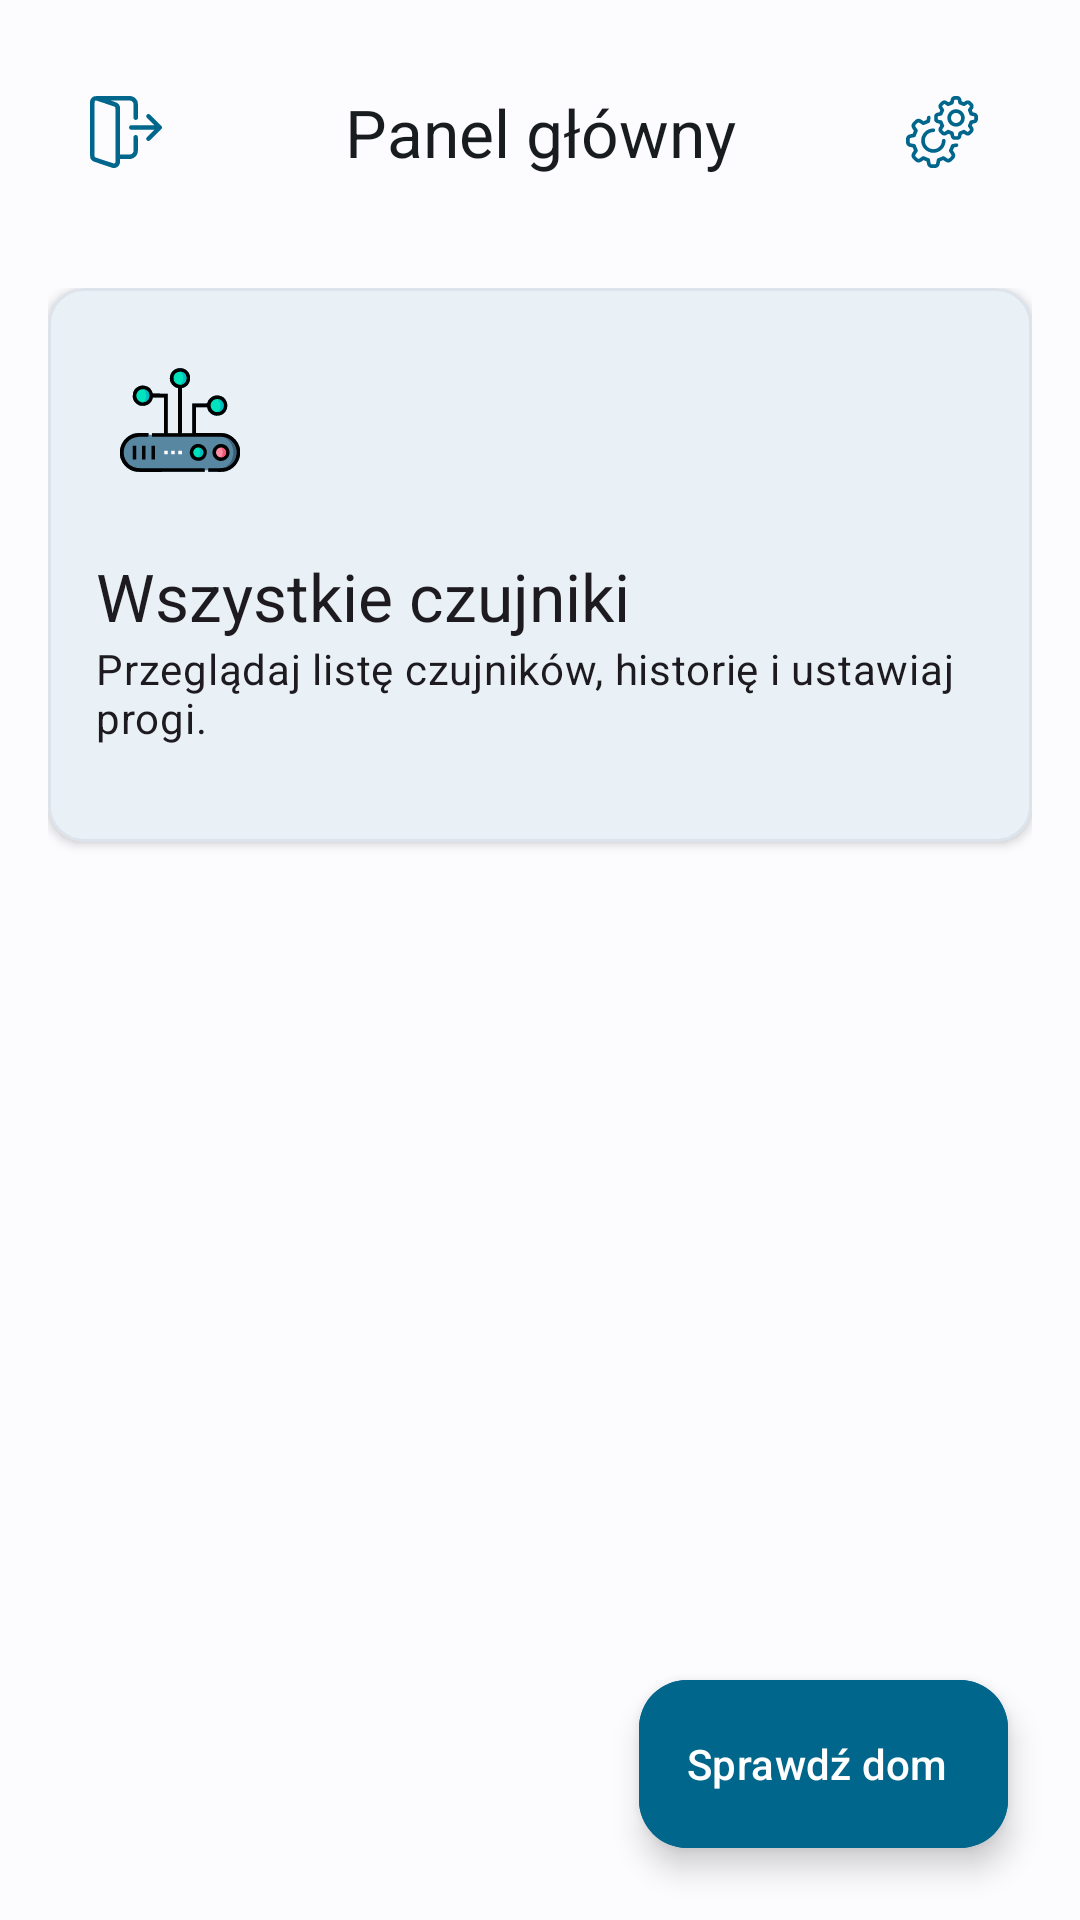

Icon bounding boxes for this 1080px×1920px phone screenshot, format (x1, y1, x2, y2):
Ikona czujnika: (120, 368, 240, 472)
Ustawienia: (906, 96, 978, 168)
